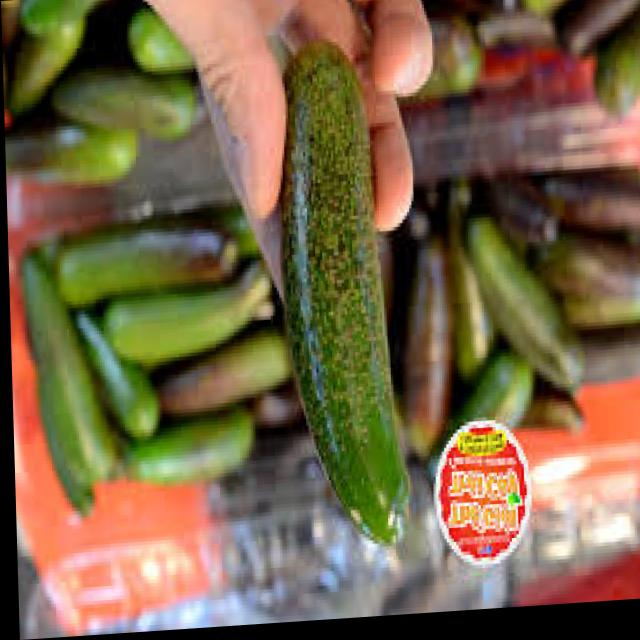Bo: (266, 43, 403, 563)
